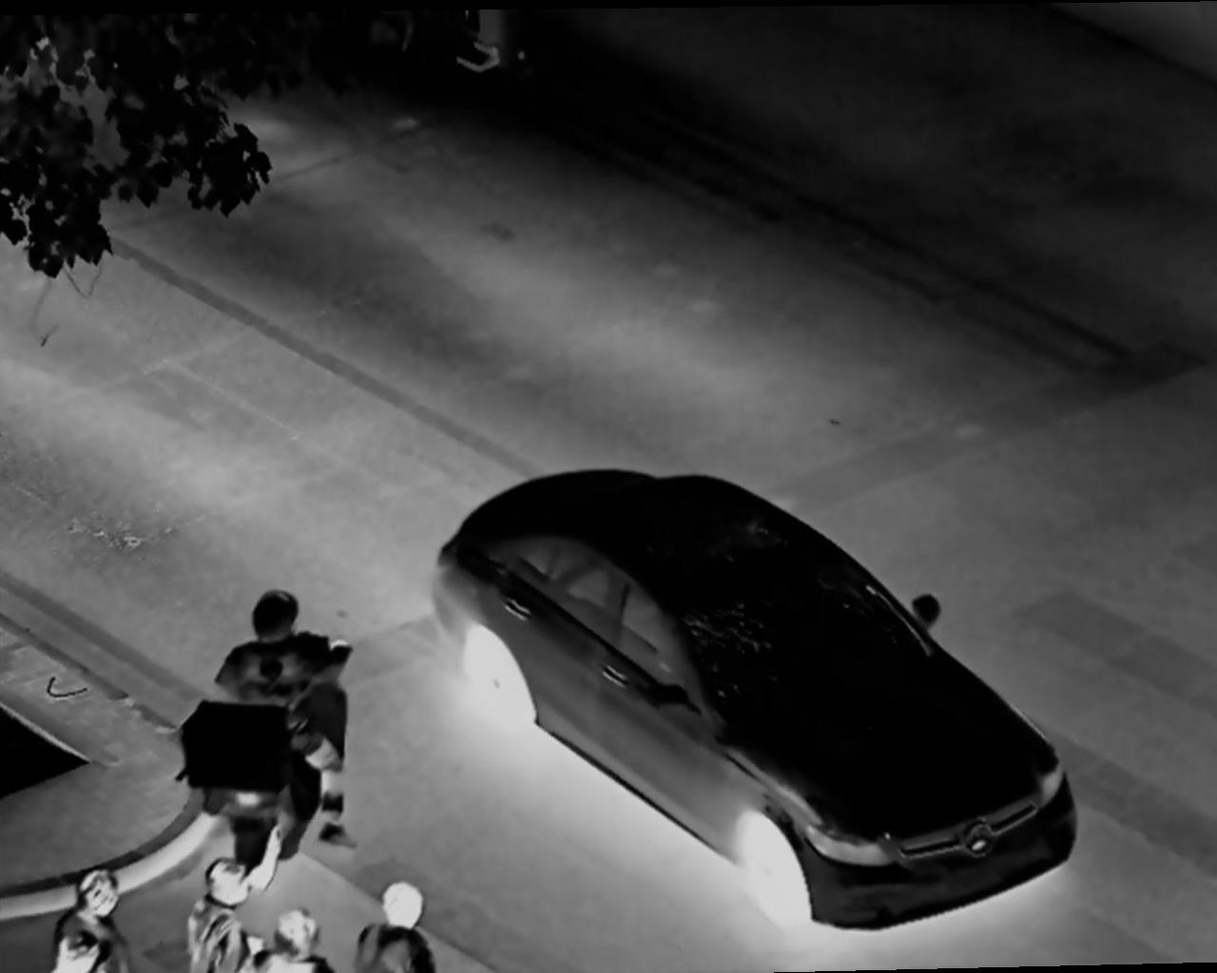person: (213, 588, 353, 862), (60, 854, 145, 973), (345, 877, 435, 973), (189, 858, 248, 973), (261, 904, 323, 973)
